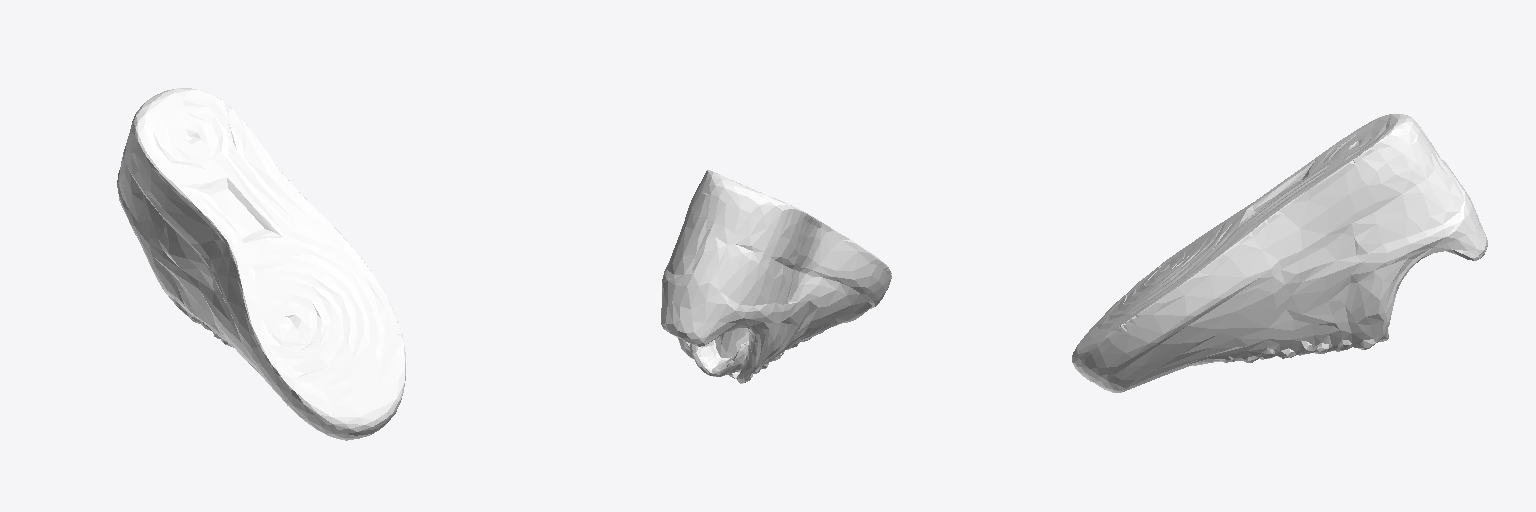
Rendered from export-right-small.obj.
3 views of the same model, side by side, from view 1: azimuth 30°, elevation 25°; view 2: azimuth 150°, elevation 25°; view 3: azimuth 270°, elevation 25° (orthographic).
Size of the model in its own units: 118 by 197 by 296.